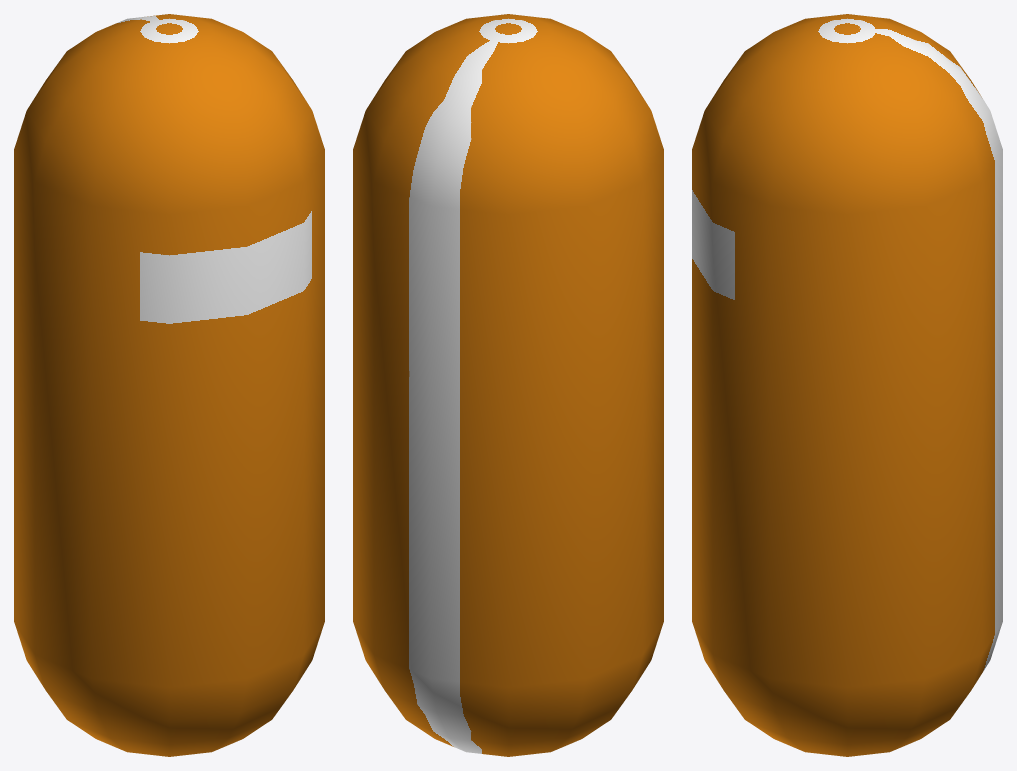
3 renders of one model, left to right at view 1: azimuth 30°, elevation 25°; view 2: azimuth 150°, elevation 25°; view 3: azimuth 270°, elevation 25°, orthographic.
Visible parts, largest first — view 1: capsule; view 2: capsule; view 3: capsule.
Boxes of the visible parts, x1,y1,x2,y2 form: capsule: [14, 14, 324, 756]; capsule: [353, 14, 663, 756]; capsule: [692, 14, 1002, 756].
Bounding box in the file's own units: 0.7077 × 1.8 × 0.7077.
1 material, 1 textured.
